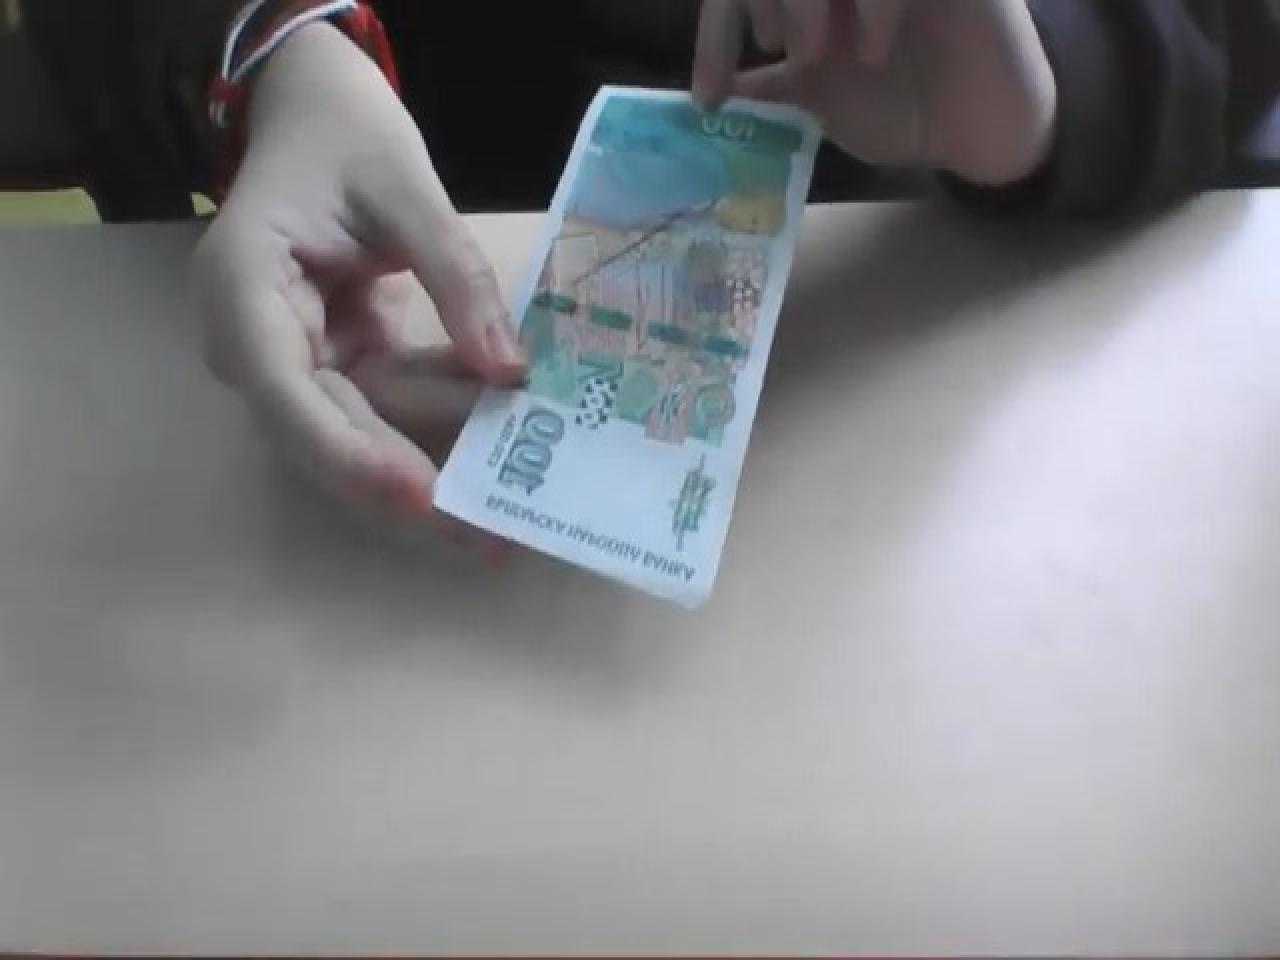100leva: (432, 80, 826, 608)
